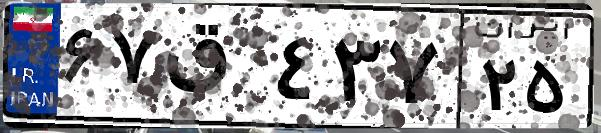2: (475, 38, 525, 113)
3: (330, 28, 385, 110)
4: (270, 28, 330, 110)
5: (525, 38, 570, 115)
6: (57, 26, 110, 100)
7: (385, 28, 445, 110), (110, 28, 158, 98)
ق: (158, 20, 270, 120)
